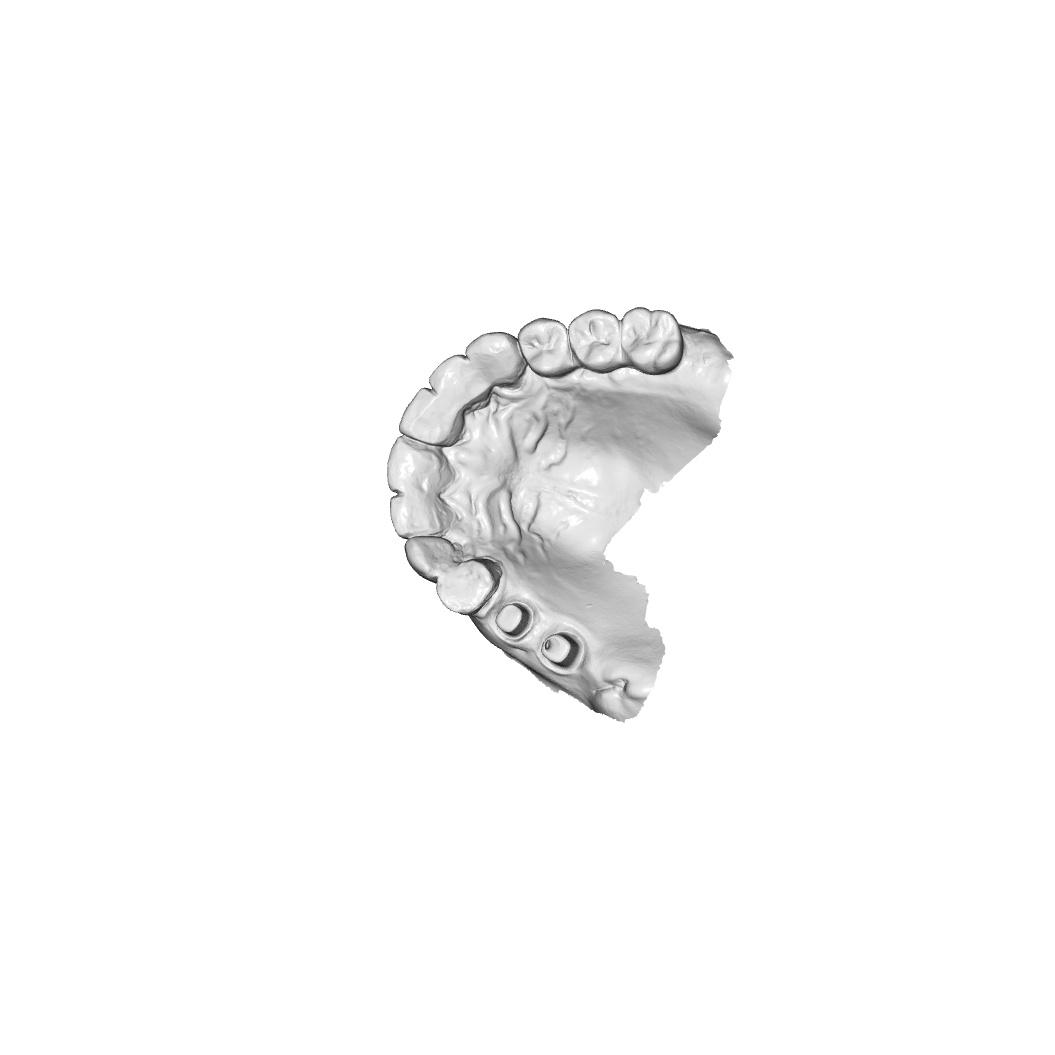abutment: (539, 630, 581, 668), (494, 602, 532, 639)
canine: (464, 330, 527, 389), (404, 535, 457, 583)
incisor: (385, 435, 456, 495), (398, 387, 463, 448), (428, 353, 485, 414), (389, 493, 454, 540)
molar: (620, 306, 686, 376)
premolar: (566, 308, 624, 375), (435, 558, 500, 616), (517, 316, 574, 380)
